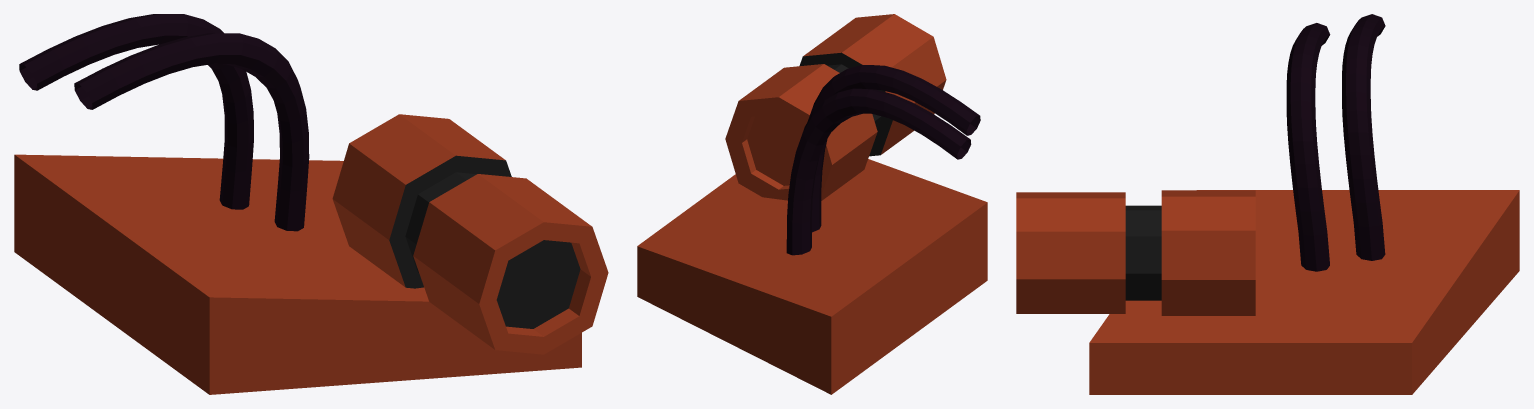
File: czesc_3.fbx
3 renders of one model, left to right at view 1: azimuth 30°, elevation 25°; view 2: azimuth 150°, elevation 25°; view 3: azimuth 270°, elevation 25°, orthographic. The views are drawn at different scales.
Visible parts, largest first — view 1: Circle.000; view 2: Circle.000; view 3: Circle.000.
Boxes of the visible parts, x1=… form: Circle.000: x1=14, y1=14, x2=608, y2=394; Circle.000: x1=637, y1=14, x2=987, y2=394; Circle.000: x1=1016, y1=14, x2=1519, y2=394.
Bounding box in the file's own units: 267 × 196 × 364.
